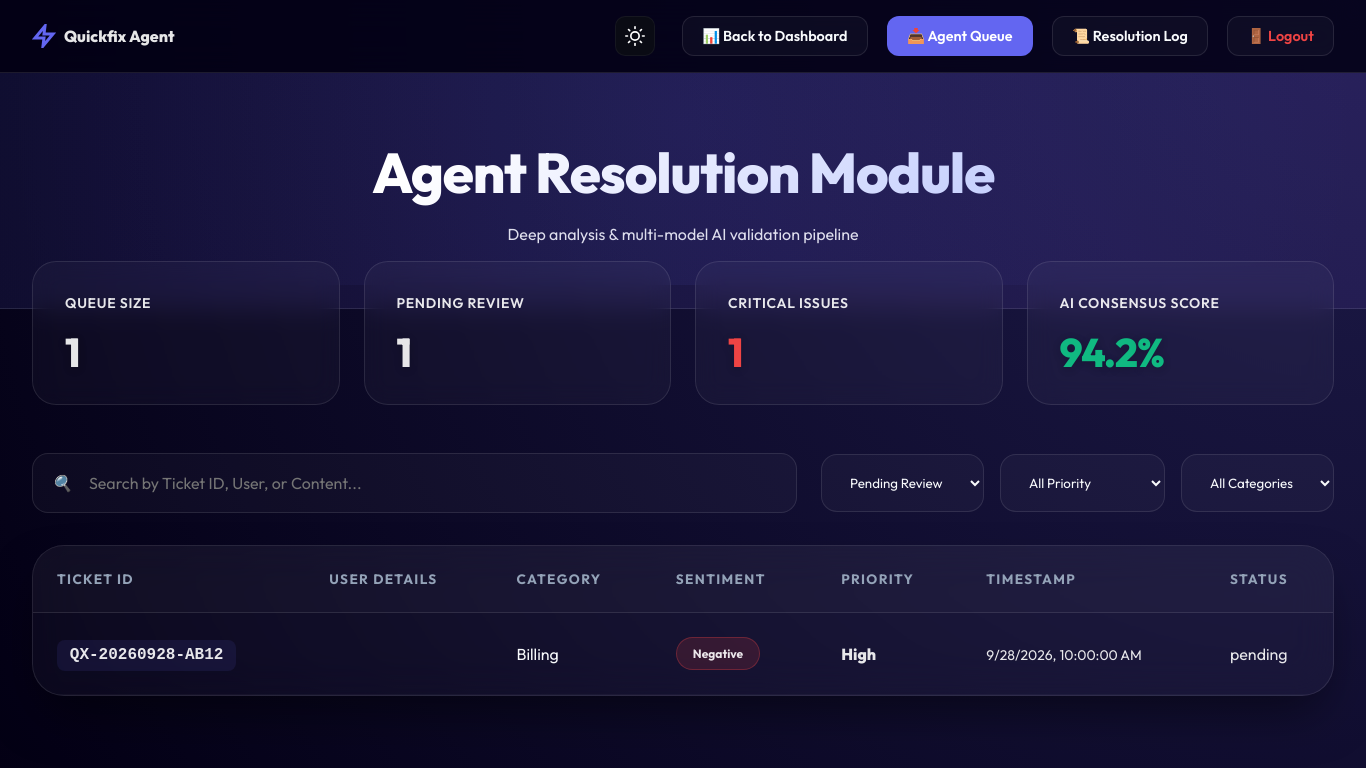
Test: opening a ticket pre-fills the AI solution and flattens object steps
Click the text "QX-20260928-AB12".
click(147, 655)  # box [57,640,236,671]
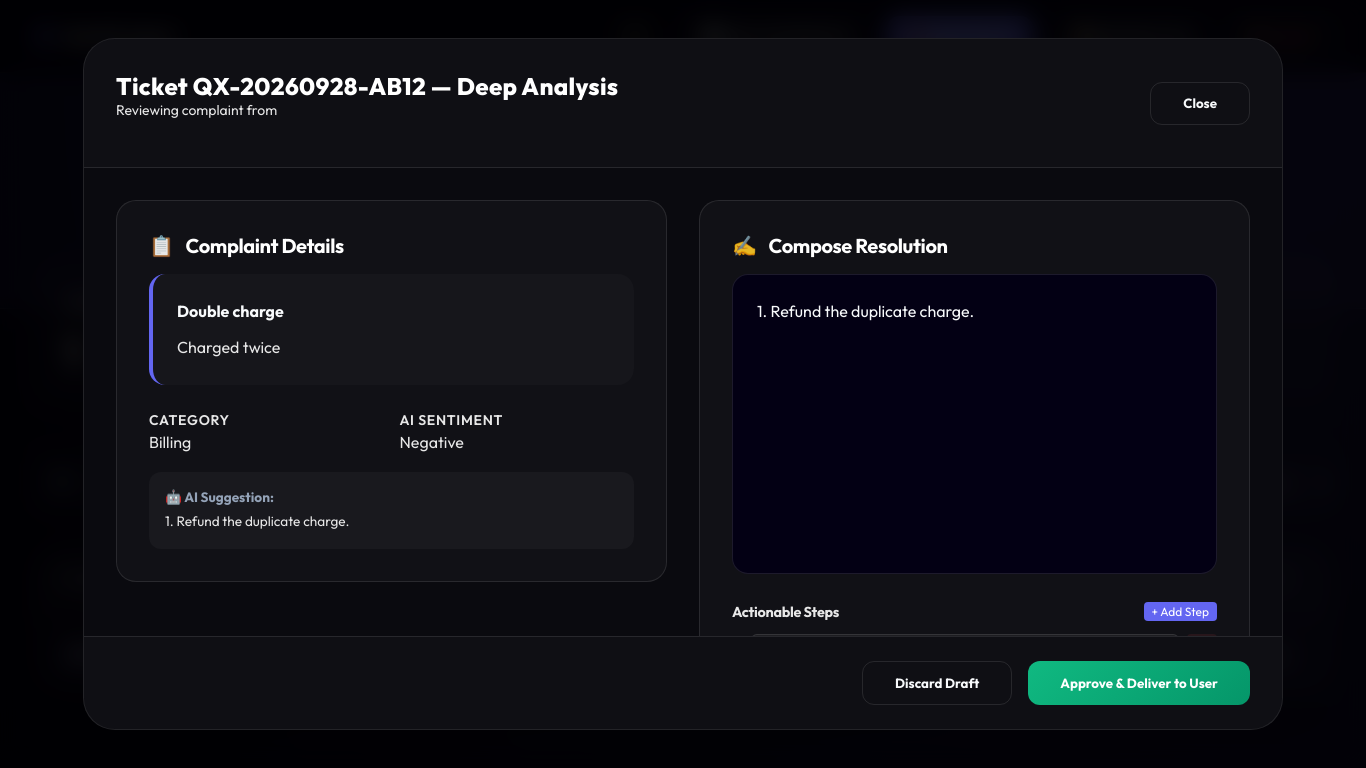
Expected: the text box showing "1. Refund the duplicate charge." is shown, [732,274,1217,574]
